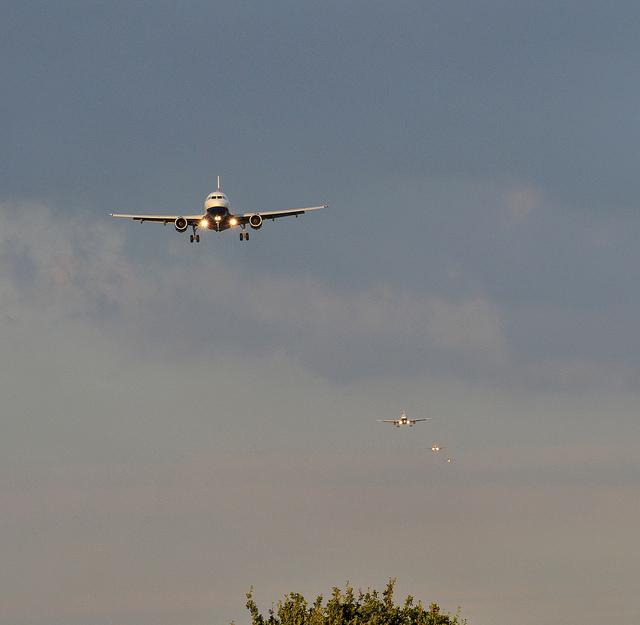airplane: (107, 172, 332, 244), (376, 407, 434, 430), (422, 440, 451, 453)
